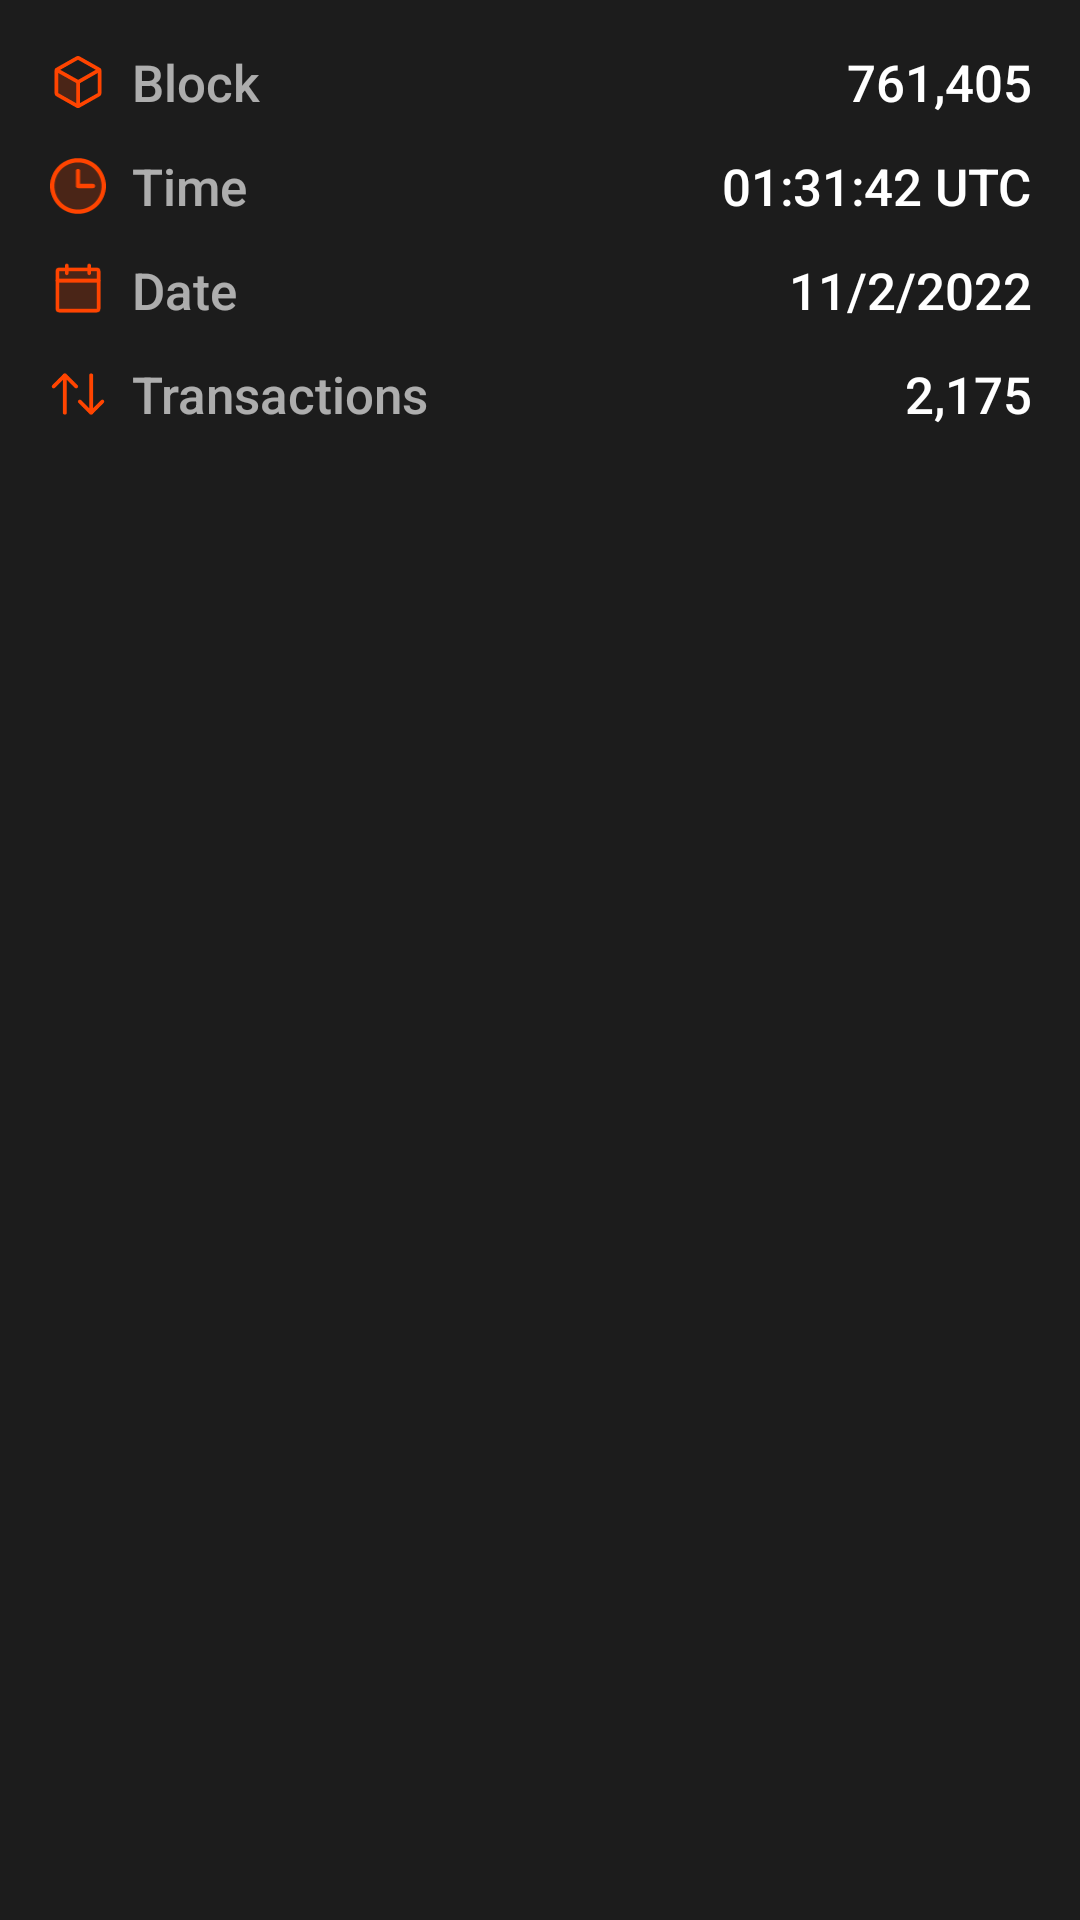

Icon click points for this 1080*1920 phone screenshot, format (x=x, y=y):
calendar: (x=78, y=288)
clock: (x=78, y=186)
cube: (x=78, y=82)
transfer: (x=78, y=394)
